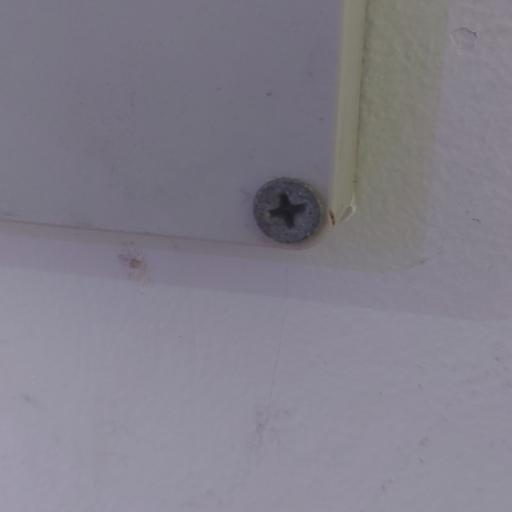Phillips: (246, 174, 324, 251)
